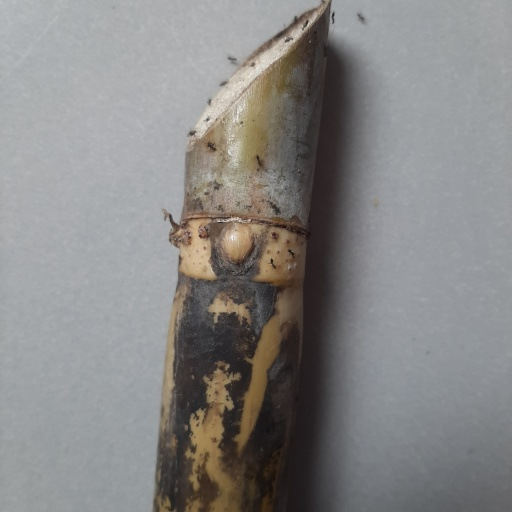Bud: (218, 222, 256, 267)
